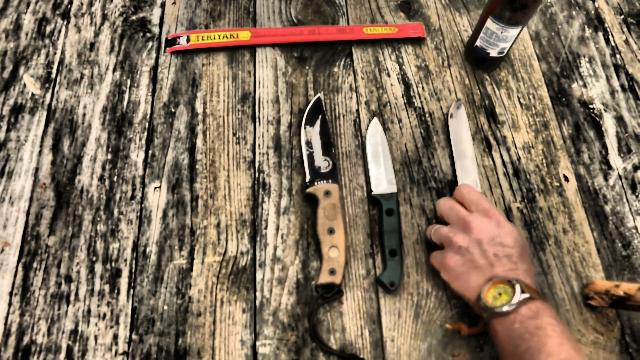knife: (424, 88, 528, 244), (292, 82, 350, 214), (358, 106, 410, 219)
